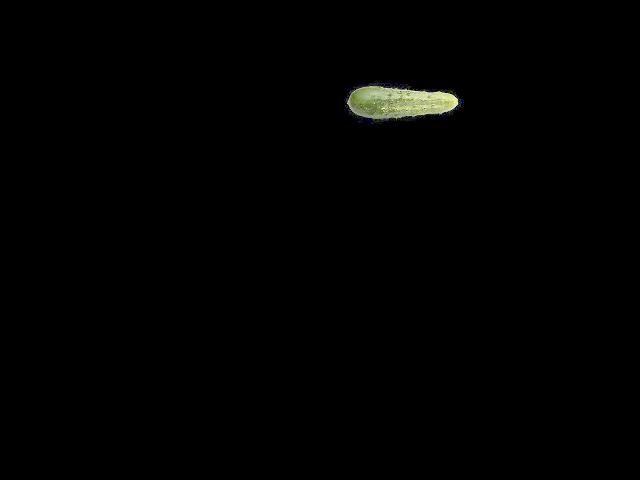cucumber: (346, 86, 457, 120)
